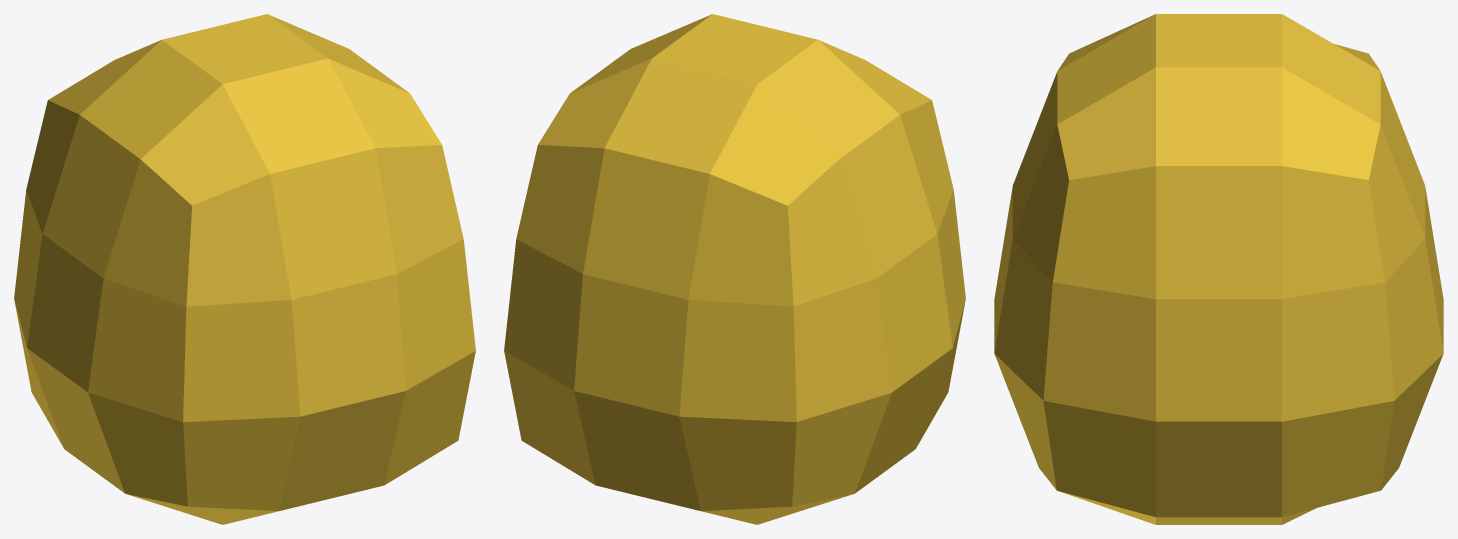
Rendered from CornFixed.fbx.
The picture shows the model from 3 angles, left to right: view 1: azimuth 30°, elevation 25°; view 2: azimuth 150°, elevation 25°; view 3: azimuth 270°, elevation 25°; orthographic projection. The views are drawn at different scales.
Visible parts, largest first — view 1: Cube; view 2: Cube; view 3: Cube.
Boxes of the visible parts, x1,y1,x2,y2 form: Cube: (14, 14, 475, 524); Cube: (504, 14, 965, 524); Cube: (994, 14, 1443, 524).
Size of the model in its own units: 29.15 by 32.74 by 29.15.
